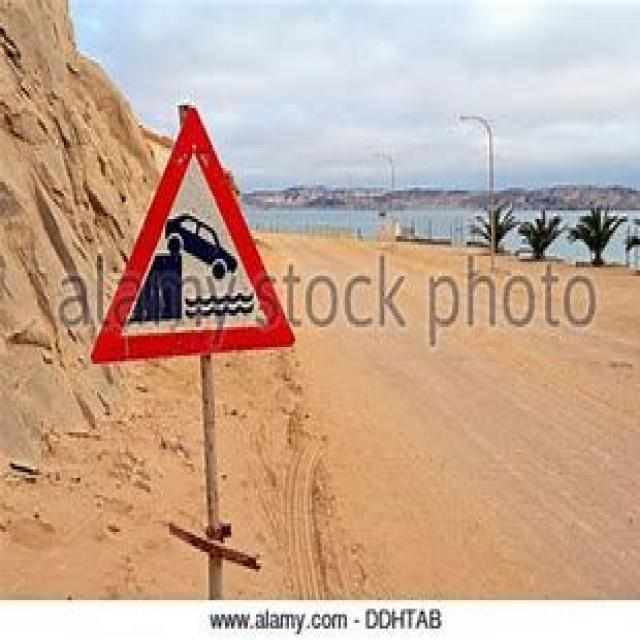quay side or river bank: (90, 100, 294, 356)
